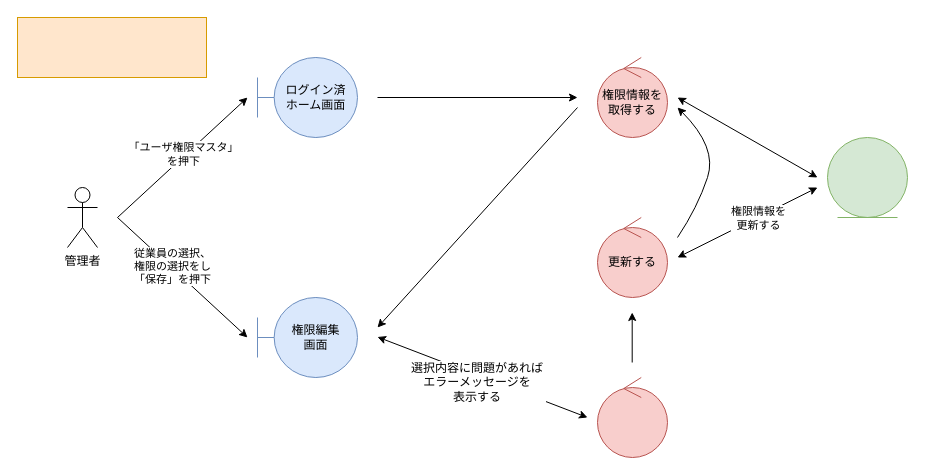
This 925x475 diagram has some shape labels left out. The centre of each missing label's shape, as x and y in pixels:
"ユーザ権限編集" belongs at pixel 111 47.
"更新内容を検証する" belongs at pixel 632 417.
"権限情報" belongs at pixel 867 177.
